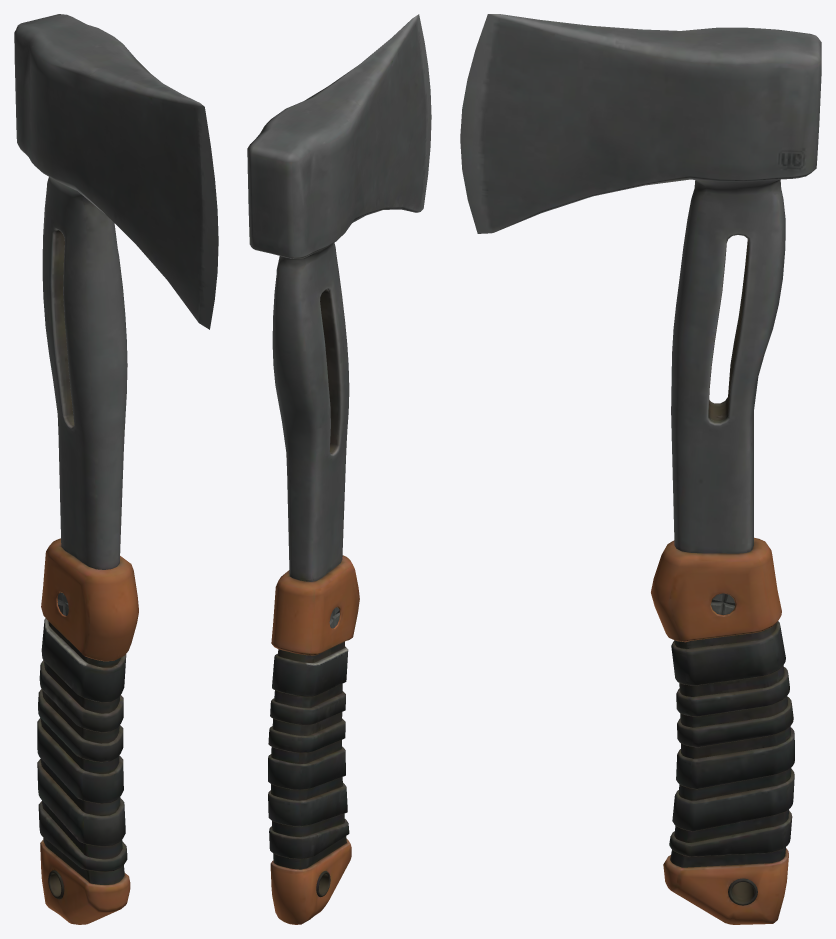
File: hatchet.glb
3 renders of one model, left to right at view 1: azimuth 30°, elevation 25°; view 2: azimuth 150°, elevation 25°; view 3: azimuth 270°, elevation 25°, orthographic. The views are drawn at different scales.
Visible parts, largest first — view 1: hatchet; view 2: hatchet; view 3: hatchet.
Part boxes in pixels (x1,y1,x2,y2): hatchet: (14,14,218,924); hatchet: (247,14,431,924); hatchet: (460,14,821,924).
Bounding box in the file's own units: 0.026 × 0.2887 × 0.1043.
1 material, 1 textured.
